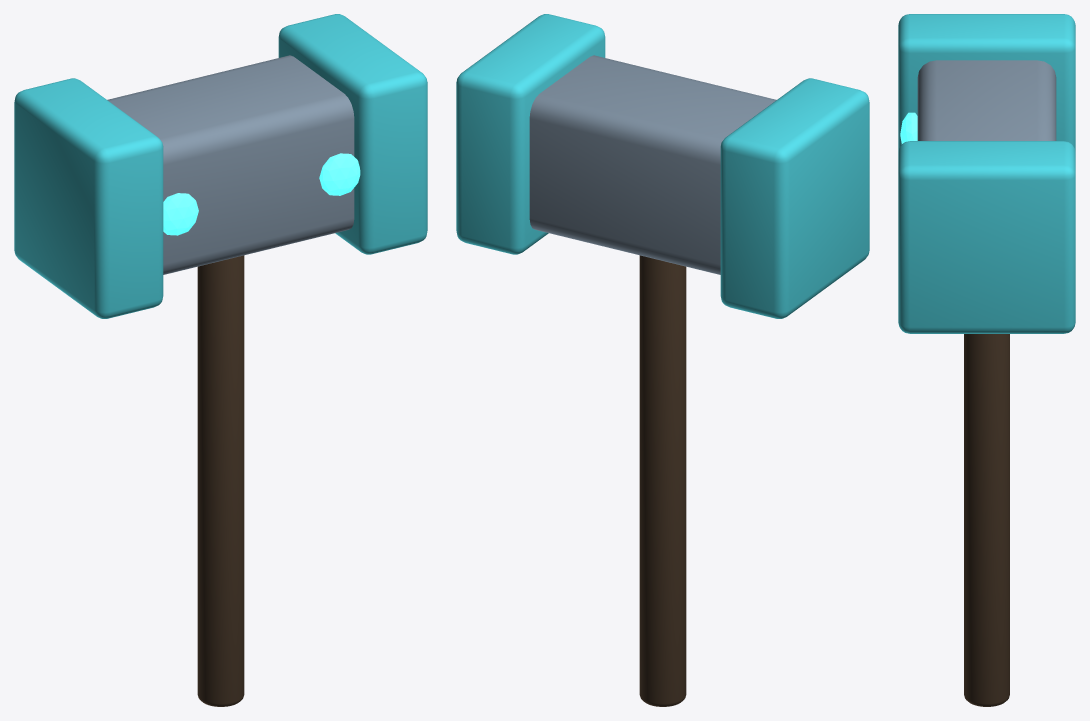
The model's file is hammer.glb.
3 renders of one model, left to right at view 1: azimuth 30°, elevation 25°; view 2: azimuth 150°, elevation 25°; view 3: azimuth 270°, elevation 25°, orthographic.
Parts seen in each view (by area): view 1: HAMMER_CORE_PRIMARY, HAMMER_FACE_L_ACCENT, HAFT_SECONDARY, HAMMER_FACE_R_ACCENT, HAMMER_RUNE_EMISSIVE.001, HAMMER_RUNE_EMISSIVE; view 2: HAMMER_CORE_PRIMARY, HAMMER_FACE_L_ACCENT, HAFT_SECONDARY, HAMMER_FACE_R_ACCENT; view 3: HAMMER_FACE_R_ACCENT, HAFT_SECONDARY, HAMMER_FACE_L_ACCENT, HAMMER_CORE_PRIMARY, HAMMER_RUNE_EMISSIVE.
Boxes of the visible parts, x1=… form: HAMMER_CORE_PRIMARY: x1=107, y1=55, x2=354, y2=274; HAMMER_FACE_L_ACCENT: x1=14, y1=78, x2=163, y2=318; HAFT_SECONDARY: x1=197, y1=255, x2=244, y2=706; HAMMER_FACE_R_ACCENT: x1=278, y1=14, x2=427, y2=254; HAMMER_RUNE_EMISSIVE.001: x1=319, y1=153, x2=360, y2=195; HAMMER_RUNE_EMISSIVE: x1=163, y1=193, x2=198, y2=235; HAMMER_CORE_PRIMARY: x1=529, y1=55, x2=776, y2=274; HAMMER_FACE_L_ACCENT: x1=720, y1=78, x2=869, y2=318; HAFT_SECONDARY: x1=639, y1=255, x2=686, y2=706; HAMMER_FACE_R_ACCENT: x1=456, y1=14, x2=605, y2=254; HAMMER_FACE_R_ACCENT: x1=898, y1=141, x2=1075, y2=333; HAFT_SECONDARY: x1=964, y1=334, x2=1009, y2=706; HAMMER_FACE_L_ACCENT: x1=898, y1=14, x2=1075, y2=151; HAMMER_CORE_PRIMARY: x1=917, y1=60, x2=1056, y2=140; HAMMER_RUNE_EMISSIVE: x1=900, y1=112, x2=917, y2=144.
Size of the model in its own units: 1.96 by 3.48 by 0.92.
